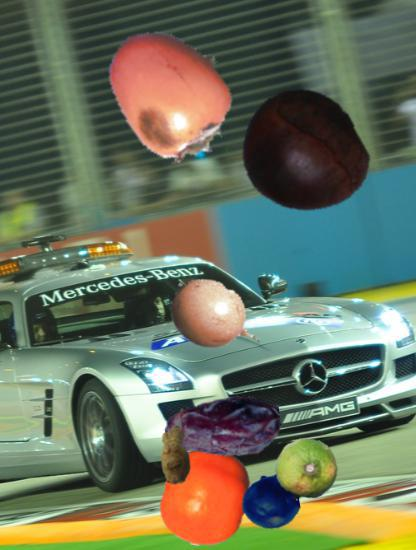Chestnut: (236, 87, 367, 218)
Clementine: (157, 448, 256, 547)
Dates: (165, 370, 281, 486)
Ginger: (145, 425, 206, 486)
Granadilla: (166, 269, 266, 369)
Huckleberry: (242, 473, 300, 531)
Kaki: (102, 21, 245, 164)
Limes: (275, 438, 339, 502)
